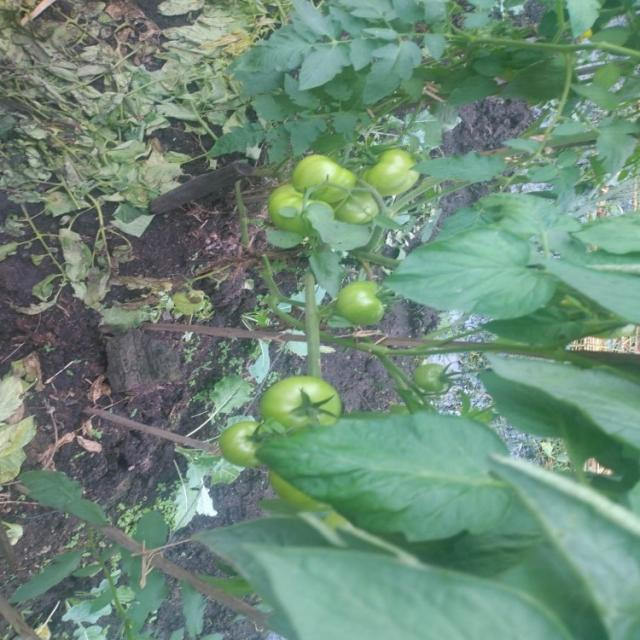tomato: (254, 374, 344, 431), (286, 144, 358, 202), (371, 147, 429, 198), (411, 358, 462, 409), (336, 275, 381, 331), (338, 183, 391, 229), (216, 416, 260, 469), (262, 176, 293, 228)
